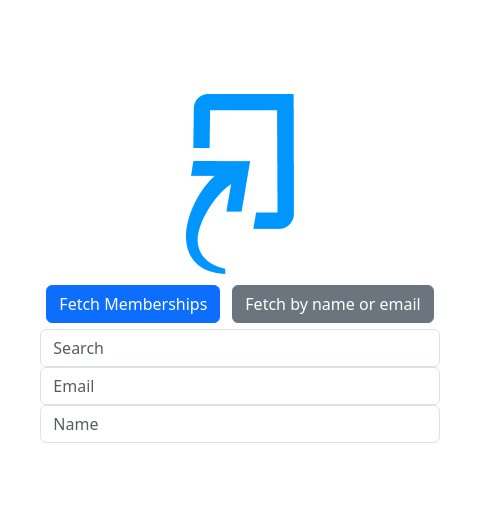
Test: App › Search › should filter name on search box
The width and height of the screenshot is (481, 532).
Click the button "Fetch Memberships" at (133, 304), box [46,285,220,323]
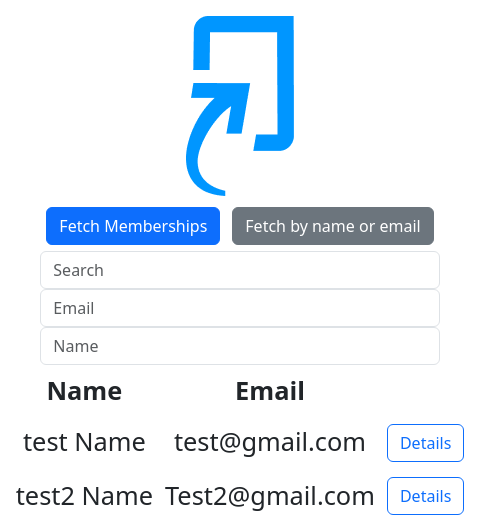
Type "test Name" into the field with placeholder "Search" at (240, 270), box [40,251,440,289]
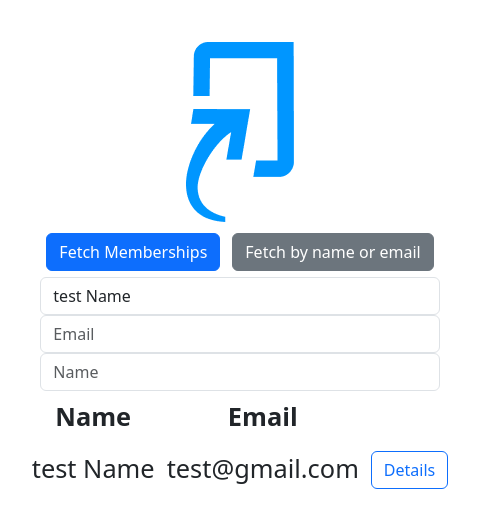
Expected: the text "test@gmail.com" is shown, [161,441,365,495]
Expected: the text "test Name" is shown, [26,441,161,495]
Expected: the text "Test2@gmail.com" is gone
